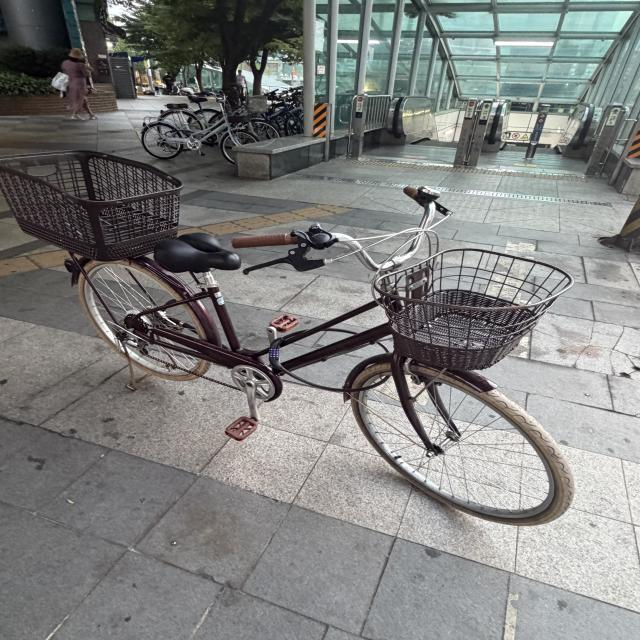bicycle: (0, 128, 620, 548)
